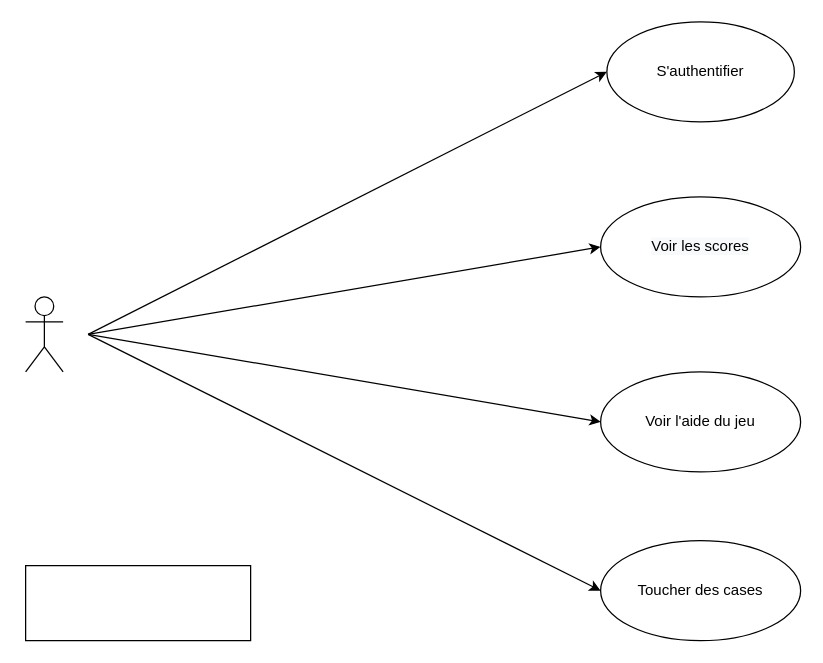
This 823x663 diagram has some shape labels left out. Here are the shapes that lost their labels. From the top down, the box of each, then its label:
(24, 296, 63, 372): Joueur
(24, 564, 251, 641): Use Cases Par : Eliott Jaquier Version : 1.1 (18.06)
